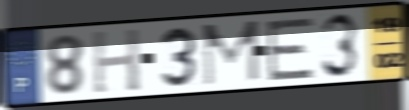3: (318, 12, 367, 80), (159, 25, 198, 90)
8: (42, 32, 87, 97)
E: (264, 15, 316, 83)
H: (90, 27, 142, 96)
M: (201, 18, 262, 89)
